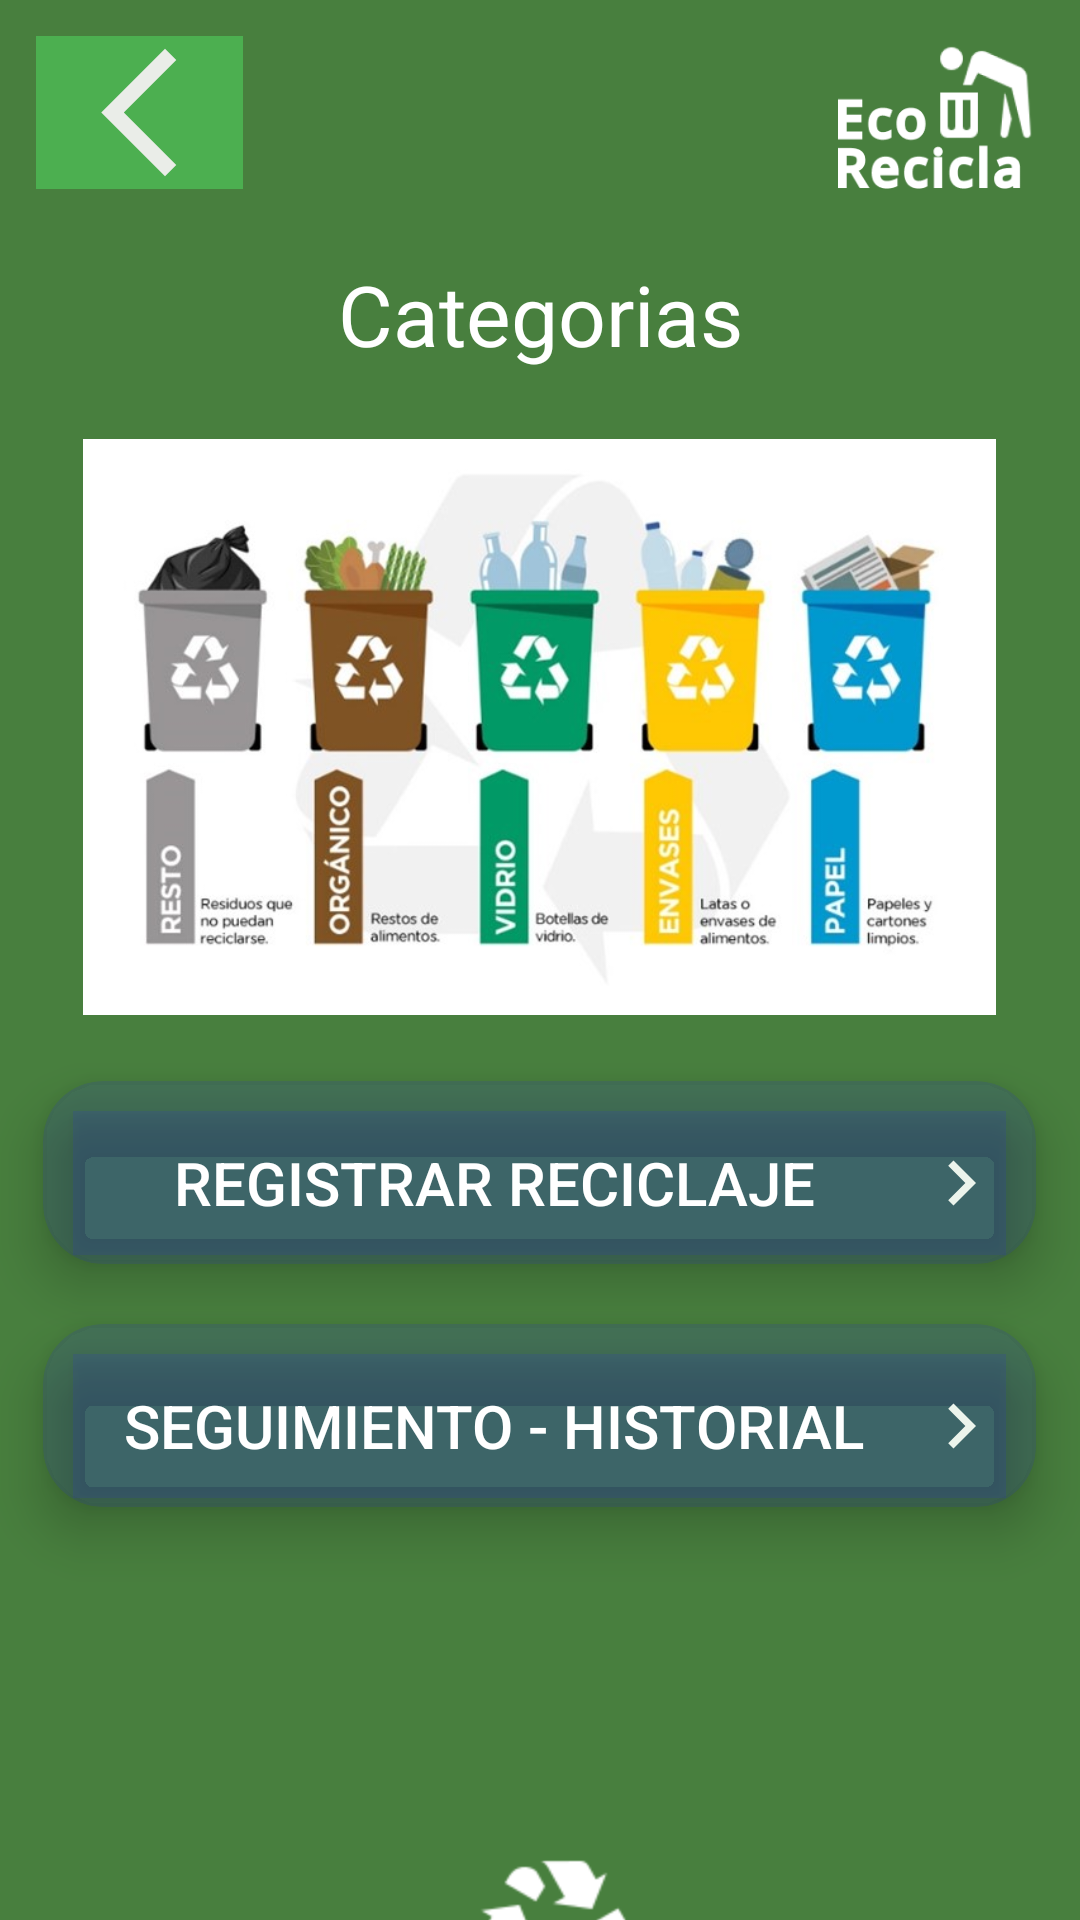

Named icons in this screenshot (1080w x 1920h) and their bounding boxes, (x1, y1, x2, y2):
back: (36, 36, 243, 189)
